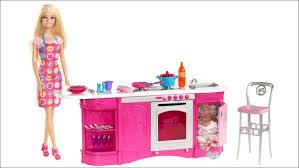Plastic toys: (63, 56, 235, 168), (6, 0, 79, 167)
